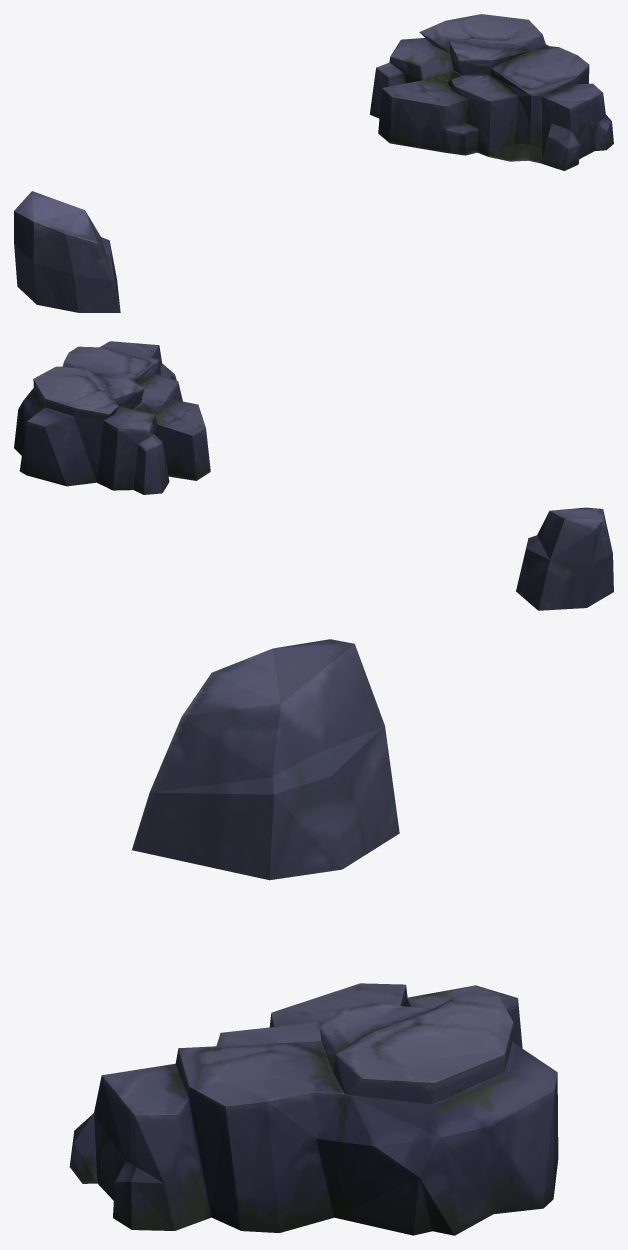
Rendered from Area13_17.fbx.
3 views of the same model, one above another, from view 1: azimuth 30°, elevation 25°; view 2: azimuth 150°, elevation 25°; view 3: azimuth 270°, elevation 25° (orthographic). The views are drawn at different scales.
Parts seen in each view (by area): view 1: Area13_17; view 2: Area13_17; view 3: Area13_17.
Boxes of the visible parts, box(x1,y1,x2,y2) form: Area13_17: box(14, 14, 613, 312); Area13_17: box(14, 341, 613, 610); Area13_17: box(69, 639, 558, 1235).
Bounding box in the file's own units: 1959 × 397 × 748.
